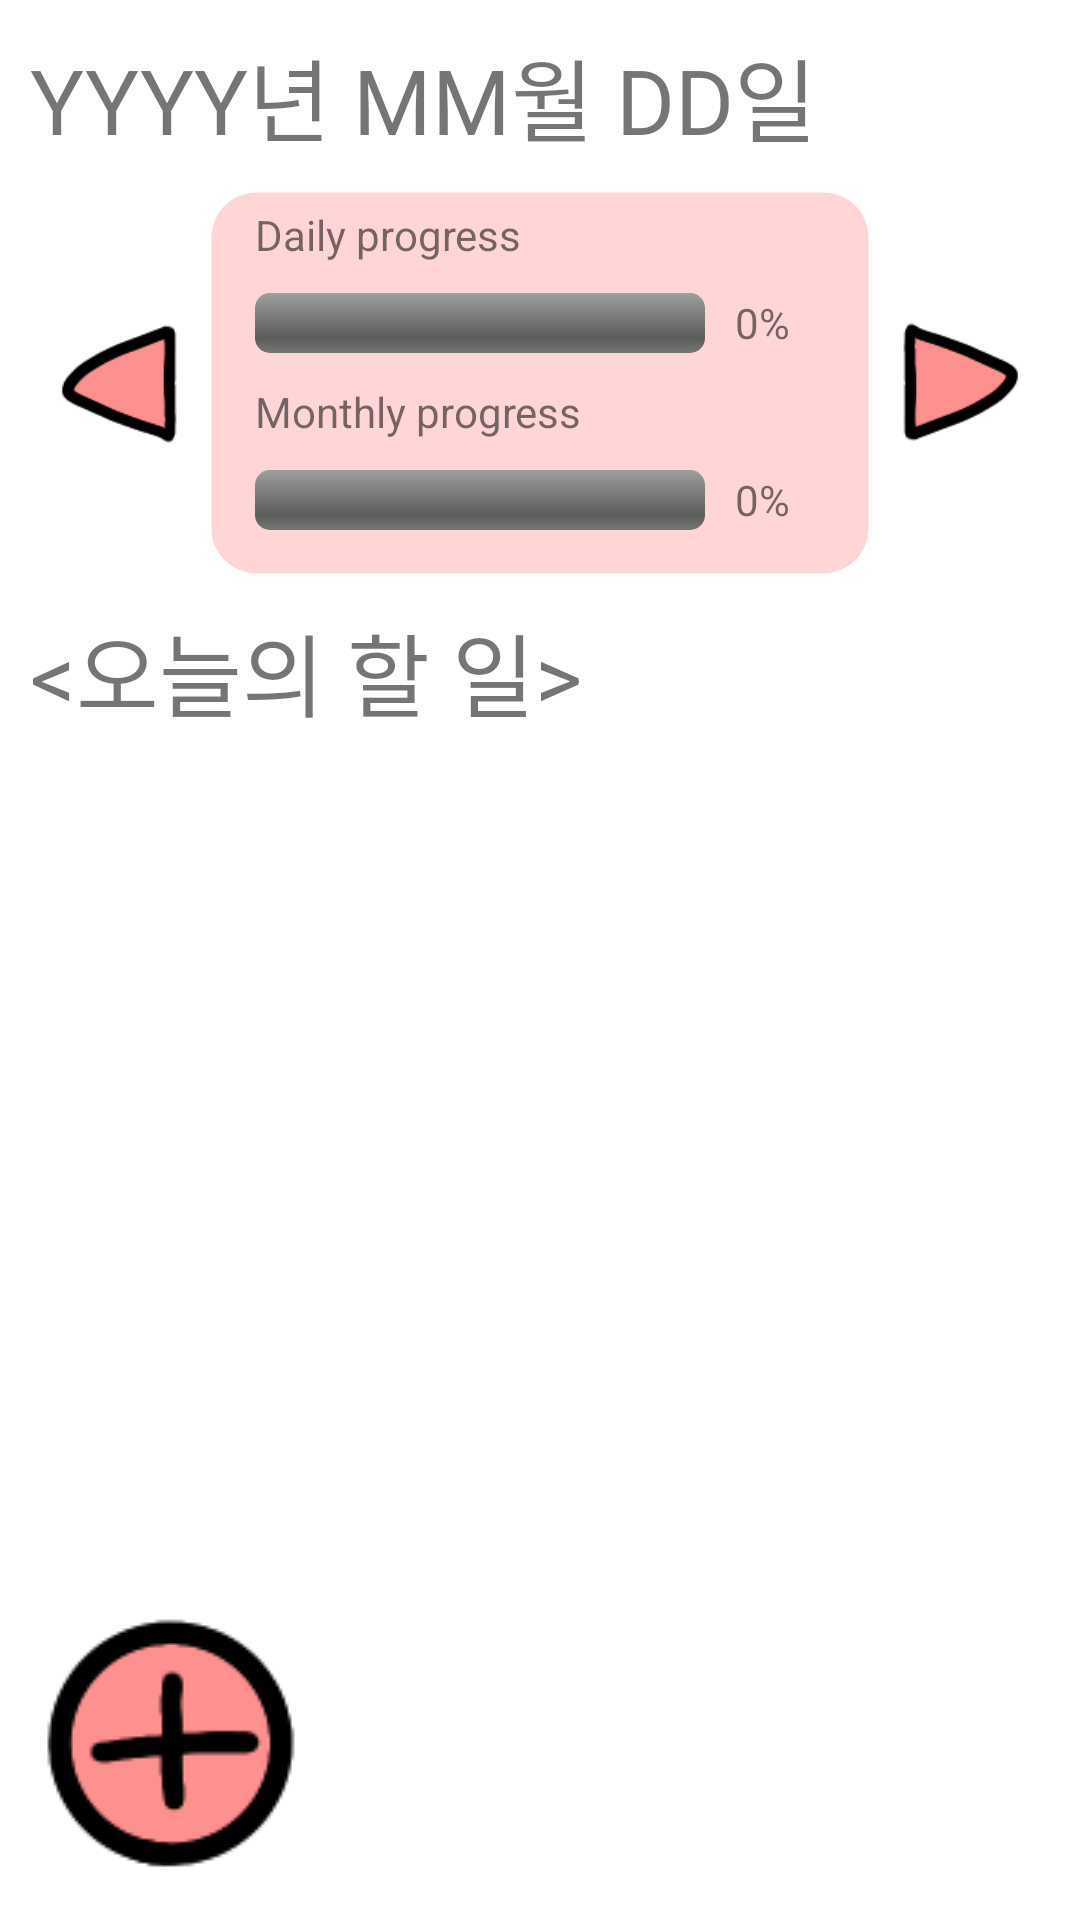

Named icons in this screenshot (1080px×1920px) and their centers, (x=x, y=y):
add: (x=171, y=1743)
left arrow: (x=119, y=384)
right arrow: (x=960, y=382)
